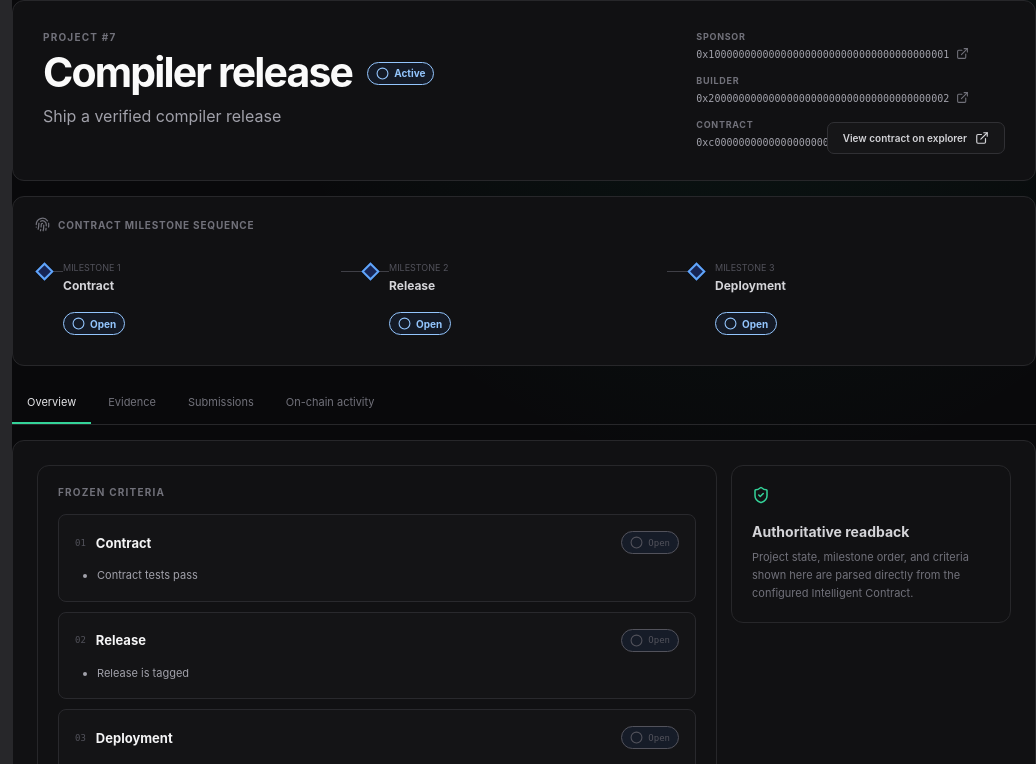
Test: ProjectWorkspace › lets only the builder edit evidence for an OPEN current milestone
Expected: the heading "Compiler release" is shown, [43, 51, 352, 94]
Click the tab "Evidence".
click(132, 402)  # box [93, 381, 171, 424]
(page scrolled)
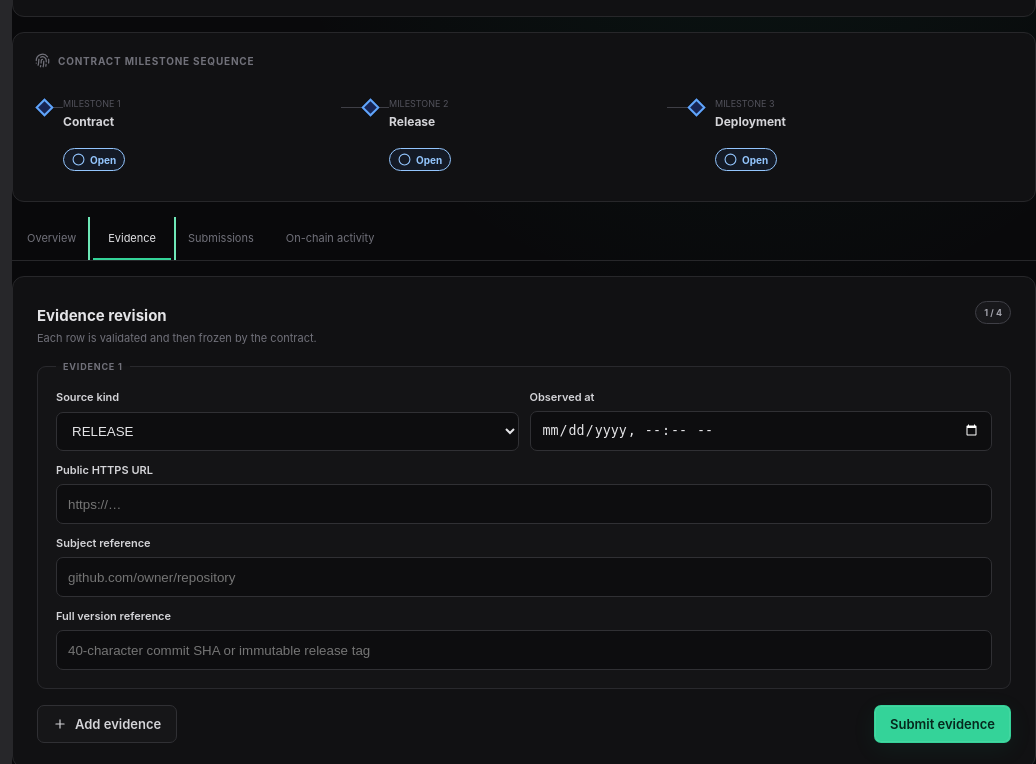
Result: the button "Submit evidence" is shown at [874, 705, 1011, 743]
